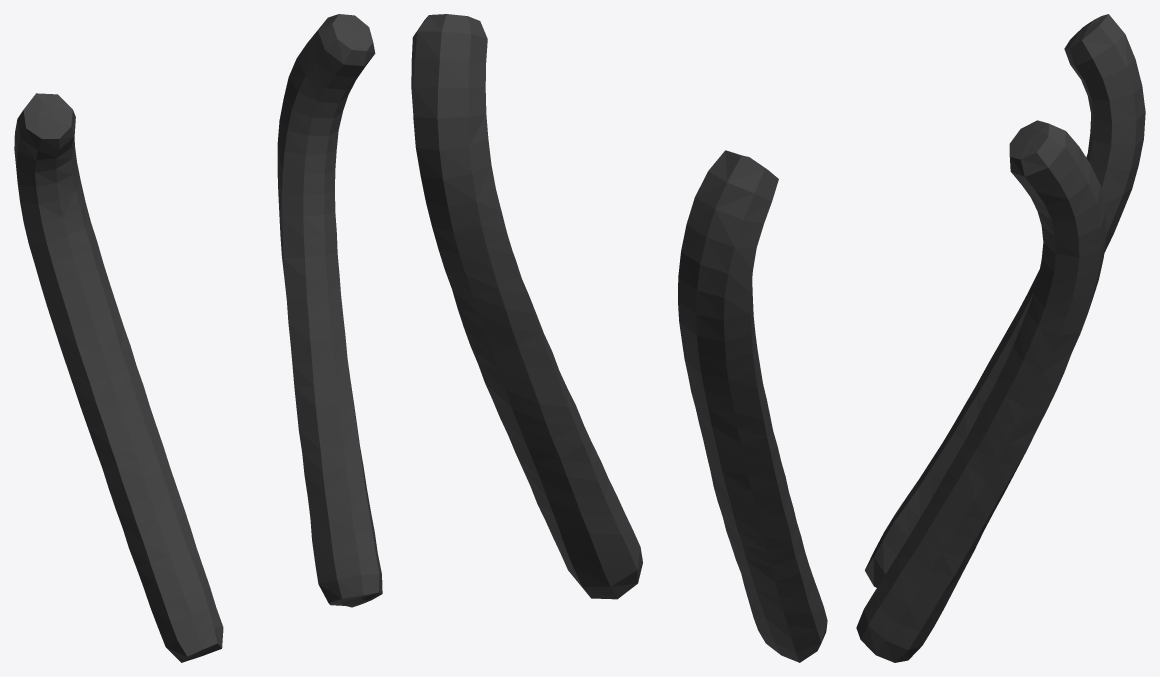
File: Axial_ligaments.glb
The picture shows the model from 3 angles, left to right: view 1: azimuth 30°, elevation 25°; view 2: azimuth 150°, elevation 25°; view 3: azimuth 270°, elevation 25°; orthographic projection. The views are drawn at different scales.
Visible parts, largest first — view 1: Axial_ligaments; view 2: Axial_ligaments; view 3: Axial_ligaments.
Boxes of the visible parts, bbox=[...] form: Axial_ligaments: bbox=[14, 14, 382, 662]; Axial_ligaments: bbox=[411, 14, 827, 662]; Axial_ligaments: bbox=[856, 14, 1145, 662].
Size of the model in its own units: 4.44 by 7.05 by 3.18.
Materials: 1 (1 with a texture image).
